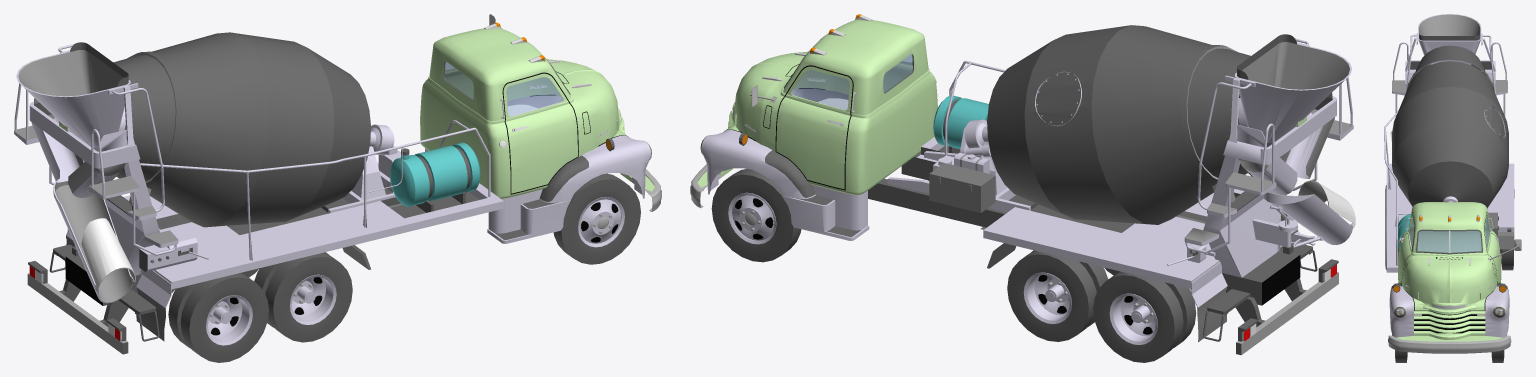
File: sf-mixer.glb
3 renders of one model, left to right at view 1: azimuth 30°, elevation 25°; view 2: azimuth 150°, elevation 25°; view 3: azimuth 270°, elevation 25°, orthographic. The views are drawn at different scales.
Parts seen in each view (by area): view 1: Geom3D_9, Geom3D_7, Geom3D_4, Geom3D_16, Geom3D_5, Geom3D_20, Geom3D_12, Geom3D_30, Geom3D_6, Geom3D_27, Geom3D_10, Geom3D_18 (+4 smaller); view 2: Geom3D_9, Geom3D_7, Geom3D_4, Geom3D_16, Geom3D_5, Geom3D_12, Geom3D_18, Geom3D_20, Geom3D_6, Geom3D_10, Geom3D_30, Geom3D_15 (+4 smaller); view 3: Geom3D_9, Geom3D_4, Geom3D_7, Geom3D_20, Geom3D_5, Geom3D_19, Geom3D_6, Geom3D_12, Geom3D_16, Geom3D_22, Geom3D_21, Geom3D_18 (+3 smaller).
Boxes of the visible parts, <box> form: Geom3D_9: <box>28,32,588,354</box>; Geom3D_7: <box>14,43,503,307</box>; Geom3D_4: <box>420,28,654,198</box>; Geom3D_16: <box>168,58,640,362</box>; Geom3D_5: <box>205,95,650,345</box>; Geom3D_20: <box>503,59,619,193</box>; Geom3D_12: <box>14,50,178,302</box>; Geom3D_30: <box>390,142,480,206</box>; Geom3D_6: <box>445,62,562,116</box>; Geom3D_27: <box>81,218,135,290</box>; Geom3D_10: <box>27,53,176,354</box>; Geom3D_18: <box>65,131,402,341</box>; Geom3D_9: <box>868,25,1338,354</box>; Geom3D_7: <box>887,38,1353,307</box>; Geom3D_4: <box>698,20,937,194</box>; Geom3D_16: <box>711,50,1196,362</box>; Geom3D_5: <box>702,89,1157,344</box>; Geom3D_12: <box>960,42,1353,242</box>; Geom3D_18: <box>929,126,1296,342</box>; Geom3D_20: <box>734,51,912,141</box>; Geom3D_6: <box>792,54,912,110</box>; Geom3D_10: <box>1186,46,1338,354</box>; Geom3D_30: <box>933,95,988,148</box>; Geom3D_15: <box>727,64,1152,334</box>; Geom3D_9: <box>1391,34,1511,288</box>; Geom3D_4: <box>1396,202,1502,341</box>; Geom3D_7: <box>1384,14,1514,272</box>; Geom3D_20: <box>1398,213,1494,306</box>; Geom3D_5: <box>1389,286,1509,337</box>; Geom3D_19: <box>1388,239,1521,353</box>; Geom3D_6: <box>1409,217,1490,252</box>; Geom3D_12: <box>1392,14,1507,92</box>; Geom3D_16: <box>1385,185,1513,362</box>; Geom3D_22: <box>1398,212,1485,333</box>; Geom3D_21: <box>1393,214,1506,318</box>; Geom3D_18: <box>1488,79,1514,249</box>.
Size of what is drawn, in the model's own units: 7.41 by 3.32 by 2.26.
Materials: 27 (1 with a texture image).
